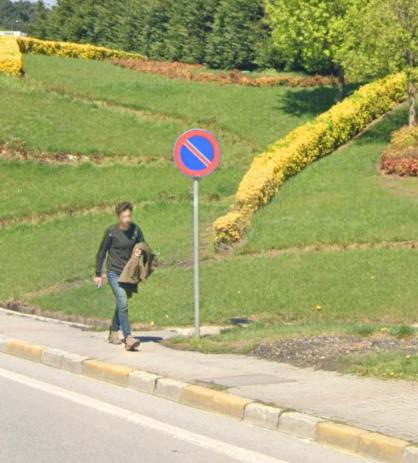nopark: (174, 131, 217, 176)
